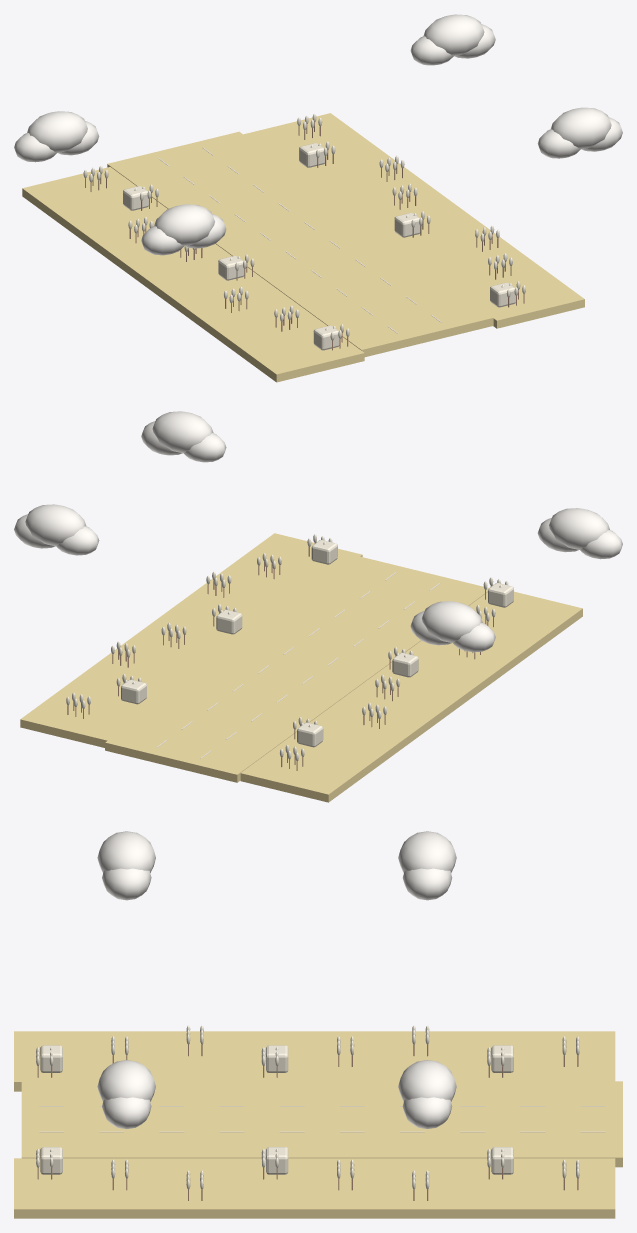
The model's file is hi3d-hi3d-runner-wheat-1-BEUZhthb.glb.
3 views of the same model, one above another, from view 1: azimuth 30°, elevation 25°; view 2: azimuth 150°, elevation 25°; view 3: azimuth 270°, elevation 25° (orthographic). The views are drawn at different scales.
Visible parts, largest first — view 1: ENV_MAT_gold.002, ENV_MAT_white.001, ENV_MAT_cream.002, ENV_MAT_wood.002; view 2: ENV_MAT_gold.002, ENV_MAT_white.001, ENV_MAT_cream.002, ENV_MAT_wood.002; view 3: ENV_MAT_gold.002, ENV_MAT_white.001, ENV_MAT_cream.002, ENV_MAT_wood.002.
Boxes of the visible parts, left/top/right/bottom form: ENV_MAT_gold.002: left=22, top=113, right=584, bottom=382; ENV_MAT_white.001: left=14, top=14, right=622, bottom=333; ENV_MAT_cream.002: left=83, top=113, right=525, bottom=350; ENV_MAT_wood.002: left=85, top=122, right=524, bottom=350; ENV_MAT_gold.002: left=20, top=533, right=582, bottom=802; ENV_MAT_white.001: left=14, top=411, right=622, bottom=758; ENV_MAT_cream.002: left=66, top=534, right=513, bottom=761; ENV_MAT_wood.002: left=67, top=543, right=493, bottom=770; ENV_MAT_gold.002: left=14, top=1031, right=622, bottom=1218; ENV_MAT_white.001: left=39, top=831, right=605, bottom=1132; ENV_MAT_cream.002: left=36, top=1025, right=579, bottom=1189; ENV_MAT_wood.002: left=37, top=1044, right=578, bottom=1200.
Size of the model in its own units: 43.4 by 13.11 by 40.5.
